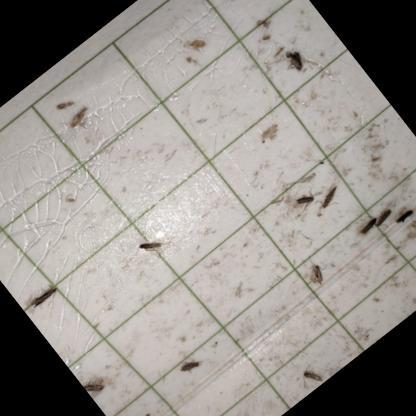prays_oleae: (21, 270, 70, 320), (292, 249, 340, 299), (272, 36, 319, 86), (310, 176, 356, 220), (130, 223, 172, 267), (75, 363, 115, 406), (173, 347, 208, 383), (367, 197, 402, 232), (290, 182, 324, 216), (294, 358, 326, 392), (351, 210, 382, 240), (389, 199, 416, 230)
